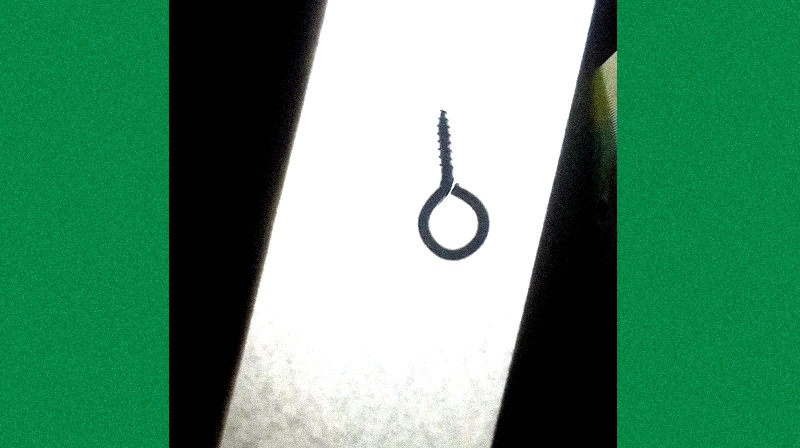O001: (414, 103, 490, 265)
